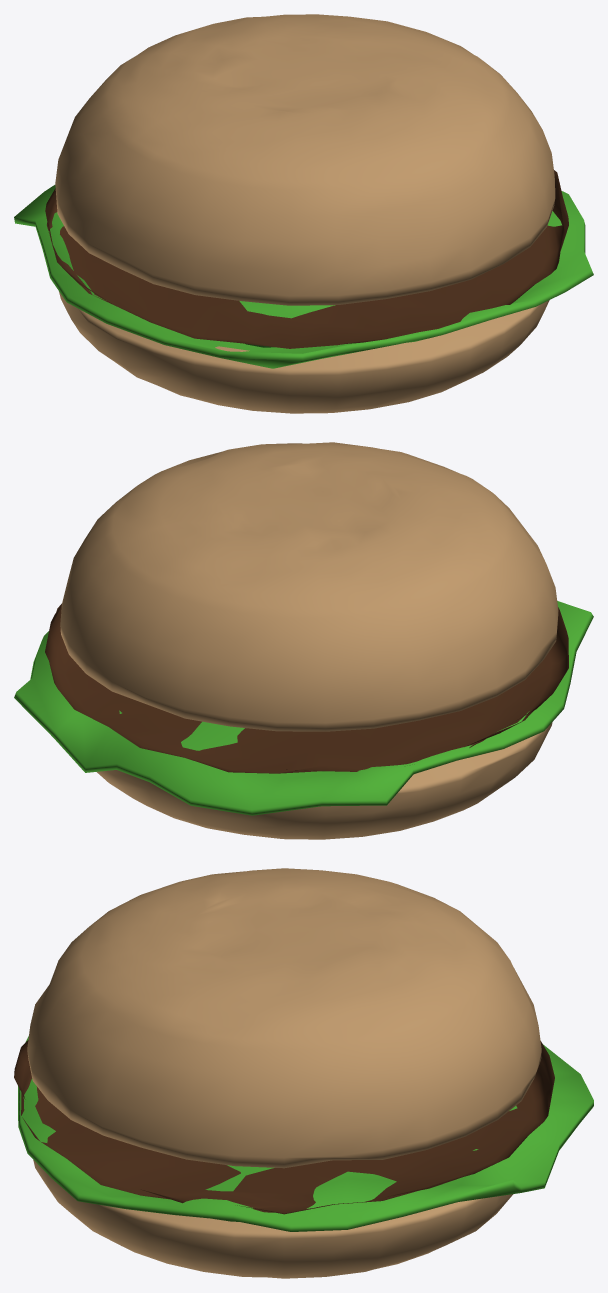
Rendered from burger.fbx.
3 renders of one model, top to bottom at view 1: azimuth 30°, elevation 25°; view 2: azimuth 150°, elevation 25°; view 3: azimuth 270°, elevation 25°, orthographic. The views are drawn at different scales.
Parts seen in each view (by area): view 1: buntop, bunbottom, patty, lettuce; view 2: buntop, lettuce, patty, bunbottom; view 3: buntop, patty, lettuce, bunbottom.
Boxes of the visible parts, <box> form: buntop: <box>55,14,555,305</box>; bunbottom: <box>59,291,549,413</box>; patty: <box>45,170,568,348</box>; lettuce: <box>14,185,593,368</box>; buntop: <box>60,442,558,731</box>; lettuce: <box>14,601,593,815</box>; patty: <box>45,603,568,773</box>; bunbottom: <box>97,722,552,839</box>; buntop: <box>27,868,541,1168</box>; patty: <box>14,1040,554,1214</box>; lettuce: <box>18,1036,593,1231</box>; bunbottom: <box>33,1160,513,1278</box>.
Size of the model in its own units: 575 by 311 by 586.
